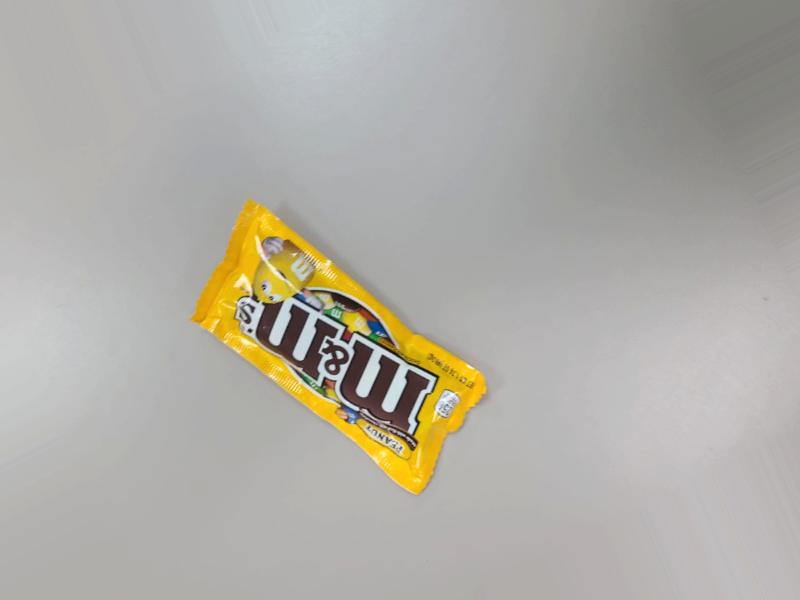m&m: (181, 196, 457, 511)
